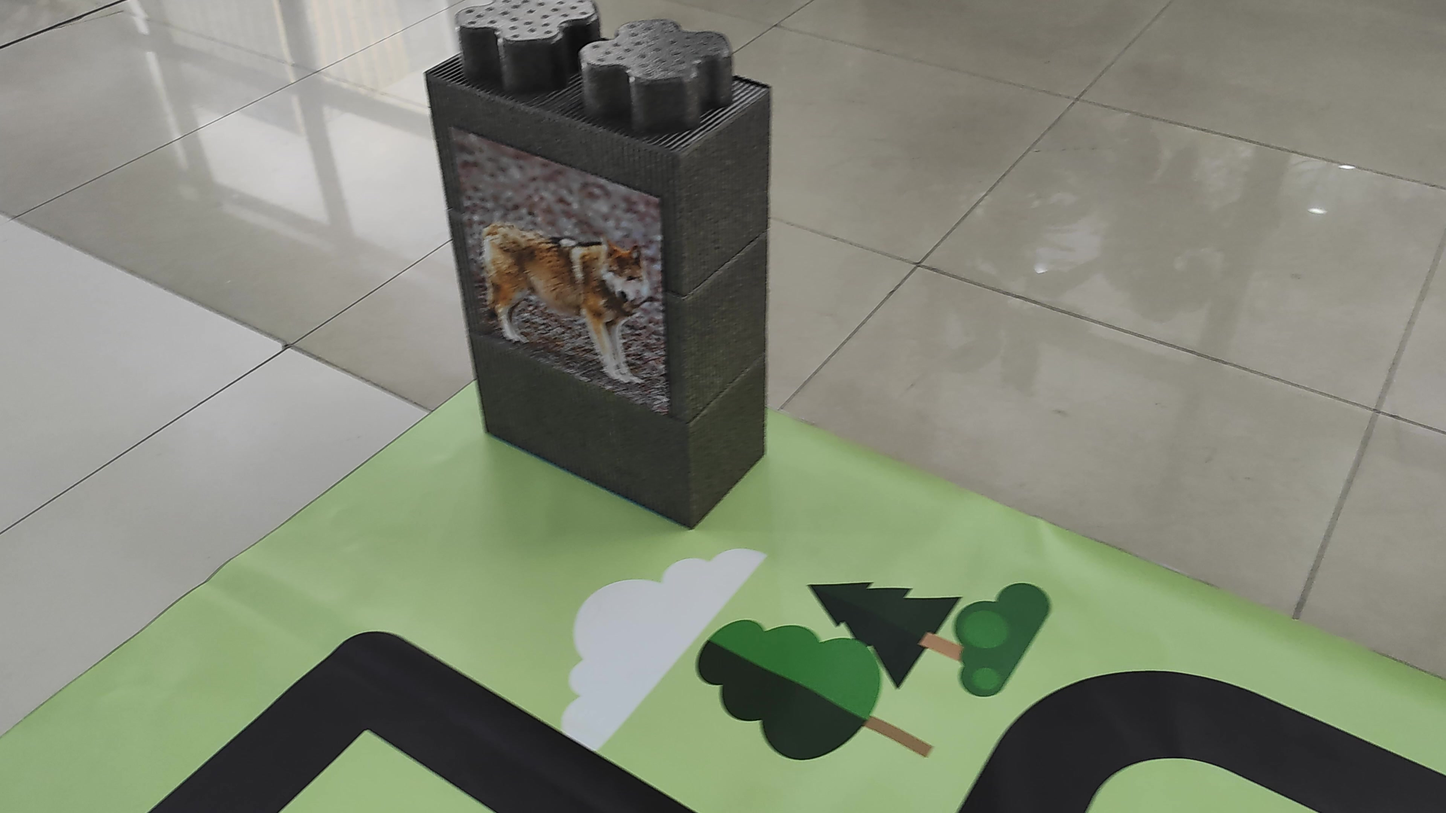wolf: (438, 132, 653, 387)
